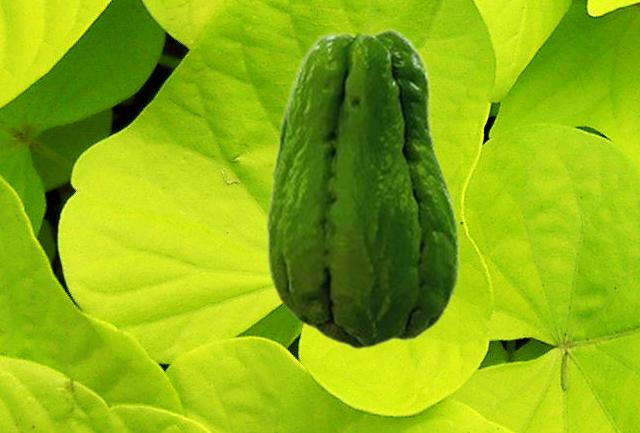sayote: (266, 27, 459, 349)
